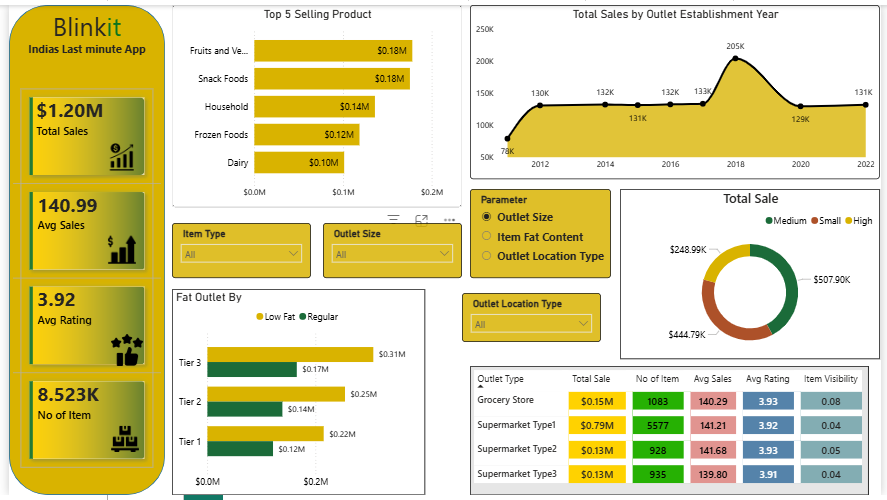

Layout of this report page (visuals, bound fields, positions):
{"tool":"powerbi","page":{"name":"Page 1","canvas":[1280,720],"ordinal":0},"visuals":[{"type":"lineChart","title":"Total Sales by Outlet Establishment Year","fields":{"Category":["BlinkIT Grocery Data.Outlet Establishment Year"],"Y":["Sum(BlinkIT Grocery Data.Sales)"]},"box":[677.4,0,602.4,255.7],"z":0},{"type":"barChart","title":"Top 5 Selling Product ","fields":{"Y":["BlinkIT Grocery Data.Total Sale"],"Category":["BlinkIT Grocery Data.Item Type"]},"box":[239.5,0,426.1,296.8],"z":1000},{"type":"shape","box":[0,0,229.2,720],"z":2000},{"type":"textbox","box":[0,0,229.2,91.1],"z":3000},{"type":"donutChart","title":"Total Sale","fields":{"Category":["BlinkIT Grocery Data.Outlet Size"],"Y":["BlinkIT Grocery Data.Total Sale"]},"box":[897.8,270.4,382,249.8],"z":4000},{"type":"clusteredBarChart","title":"Fat Outlet By","fields":{"Category":["BlinkIT Grocery Data.Outlet Location Type"],"Series":["BlinkIT Grocery Data.Item Fat Content"],"Y":["BlinkIT Grocery Data.Total Sale"]},"box":[239.5,417.3,371.8,302.7],"z":5000},{"type":"pivotTable","fields":{"Rows":["BlinkIT Grocery Data.Outlet Type"],"Values":["BlinkIT Grocery Data.Total Sale","CountNonNull(BlinkIT Grocery Data.Item Identifier)","Avg(BlinkIT Grocery Data.Sales)","BlinkIT Grocery Data.Avg Rating","StandardDeviation(BlinkIT Grocery Data.Item Visibility)"]},"box":[677.4,530.4,586.3,189.6],"z":6000},{"type":"slicer","fields":{"Values":["Parameter.Parameter"]},"box":[677.4,270.4,207.2,130.8],"z":7000},{"type":"cardVisual","fields":{"Data":["BlinkIT Grocery Data.Total Sale","Avg(BlinkIT Grocery Data.Sales)","BlinkIT Grocery Data.Avg Rating","CountNonNull(BlinkIT Grocery Data.Item Identifier)"]},"box":[0,105.8,229.2,592.2],"z":9000},{"type":"image","box":[129.3,202.8,73.5,41.1],"z":10000},{"type":"image","box":[144,333.6,44.1,52.9],"z":11000},{"type":"image","box":[144,483.4,58.8,47],"z":12000},{"type":"image","box":[144,617.1,52.9,41.1],"z":13000},{"type":"slicer","fields":{"Values":["BlinkIT Grocery Data.Outlet Location Type"]},"box":[665.6,423.2,204.2,72],"z":13001},{"type":"slicer","fields":{"Values":["BlinkIT Grocery Data.Item Type"]},"box":[239.5,320.3,204.2,80.8],"z":13002},{"type":"slicer","fields":{"Values":["BlinkIT Grocery Data.Outlet Size"]},"box":[461.4,320.3,204.2,80.8],"z":13003}]}

Visuals, with their boxes in screenshot pixels (x1, y1, x2, y2), scaled from the page's 1280x720 canvas onto the 887x500 screenshot:
"Total Sales by Outlet Establishment Year" lineChart: <box>469,0,886,178</box>
"Top 5 Selling Product " barChart: <box>166,0,461,206</box>
shape: <box>0,0,159,499</box>
textbox: <box>0,0,159,63</box>
"Total Sale" donutChart: <box>622,188,886,361</box>
"Fat Outlet By" clusteredBarChart: <box>166,290,424,499</box>
pivotTable - BlinkIT Grocery Data.Outlet Type x BlinkIT Grocery Data.Total Sale: <box>469,368,876,499</box>
slicer - Parameter.Parameter: <box>469,188,613,279</box>
cardVisual - BlinkIT Grocery Data.Total Sale x Avg(BlinkIT Grocery Data.Sales): <box>0,73,159,485</box>
image: <box>90,141,141,169</box>
image: <box>100,232,130,268</box>
image: <box>100,336,141,368</box>
image: <box>100,429,136,457</box>
slicer - BlinkIT Grocery Data.Outlet Location Type: <box>461,294,603,344</box>
slicer - BlinkIT Grocery Data.Item Type: <box>166,222,307,279</box>
slicer - BlinkIT Grocery Data.Outlet Size: <box>320,222,461,279</box>
